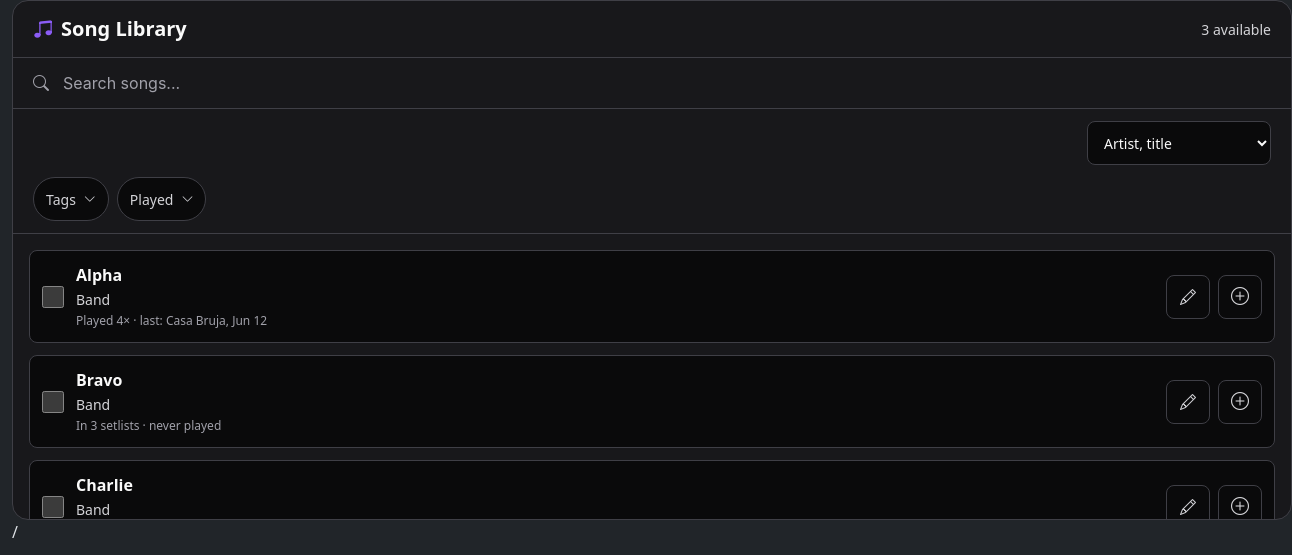
Test: SongPicker selection › touch: a second tap deselects; Clear empties the selection
Click the text "Alpha": (99, 275) [76,264,122,286]
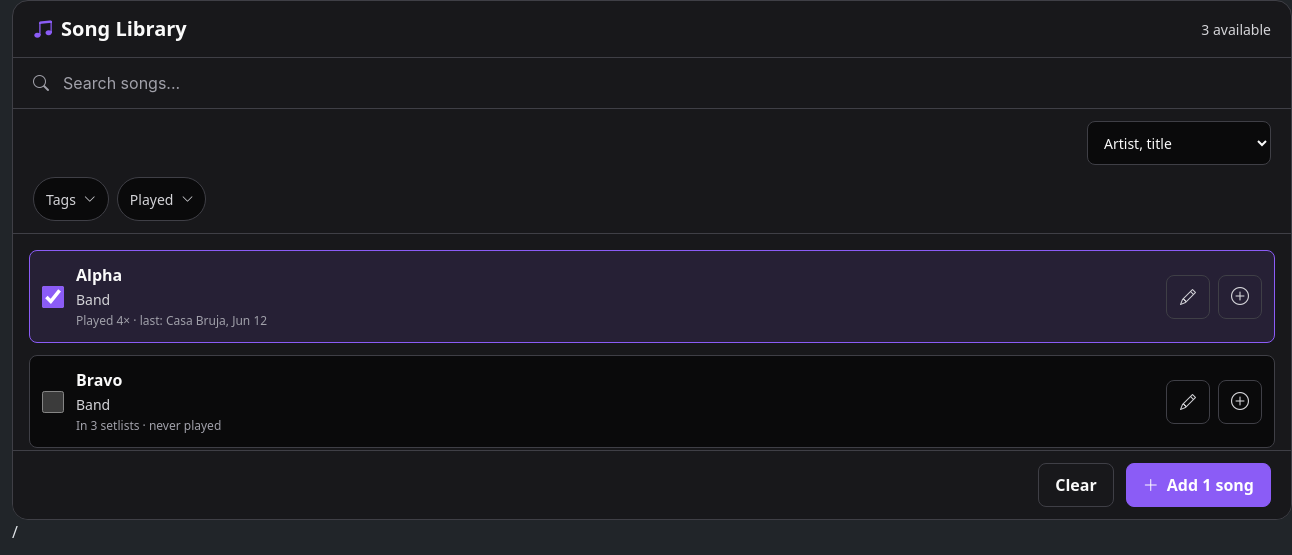
Click the text "Bravo": (99, 380) [76,369,122,391]
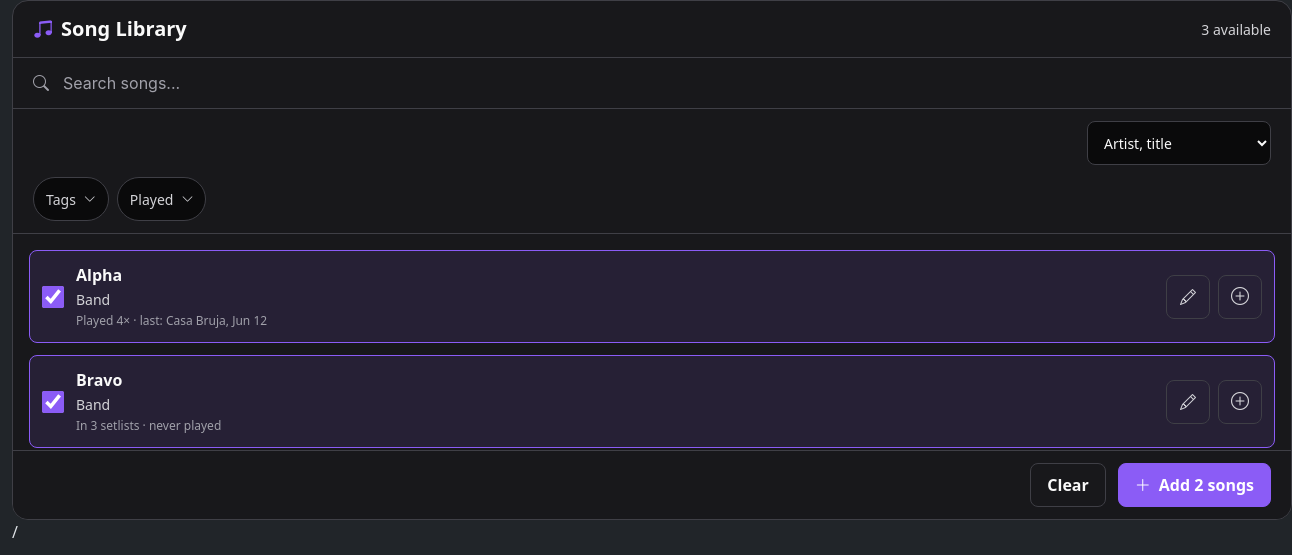
Click the text "Alpha": (99, 275) [76,264,122,286]
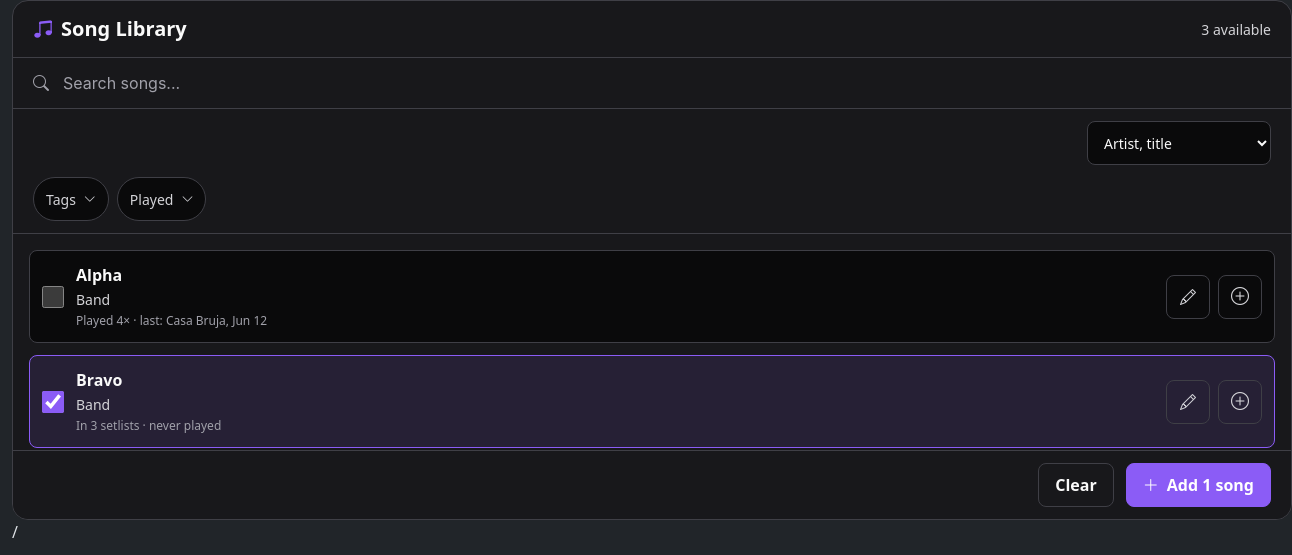
Result: the button "Add 1 song" is shown at [1126,463,1271,507]
Click the button "Clear": (1076, 485) [1038,463,1114,507]
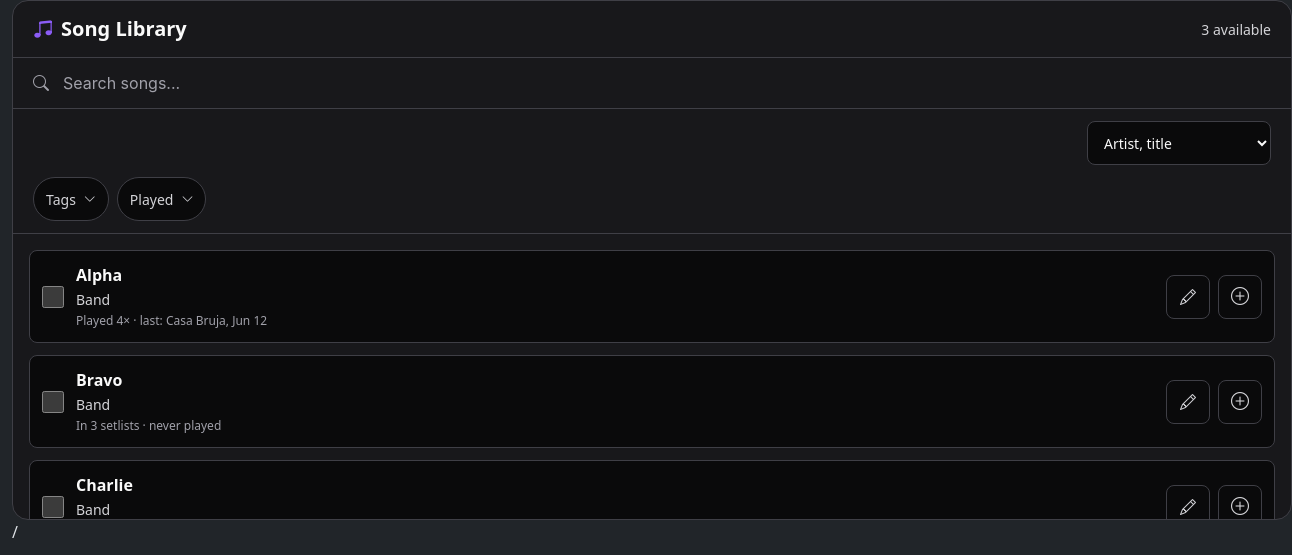
Result: the button "Add 1 song" is gone
